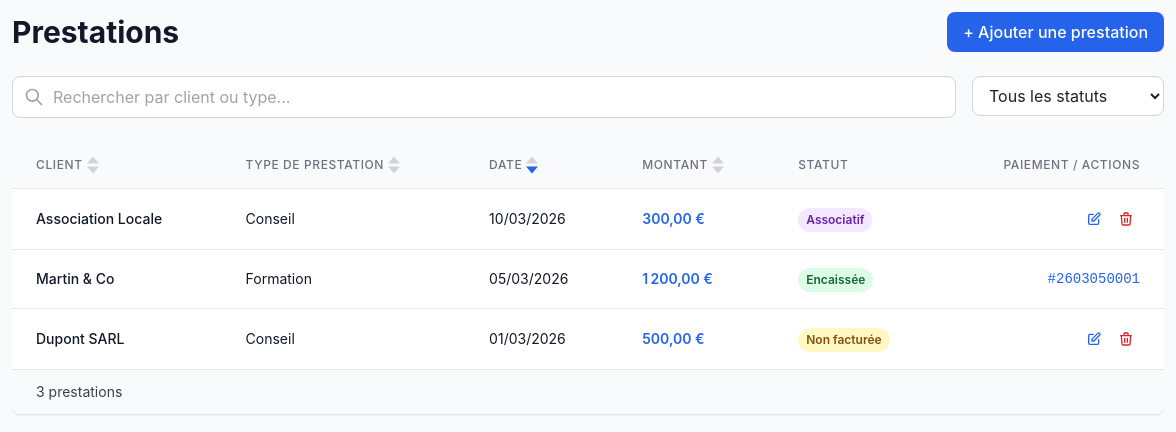
Scenario: Prestations page › filters prestations when searching by type
Type "Formation" into the field with placeholder "Rechercher par client ou type..." at (484, 97), box [12,76,956,118]
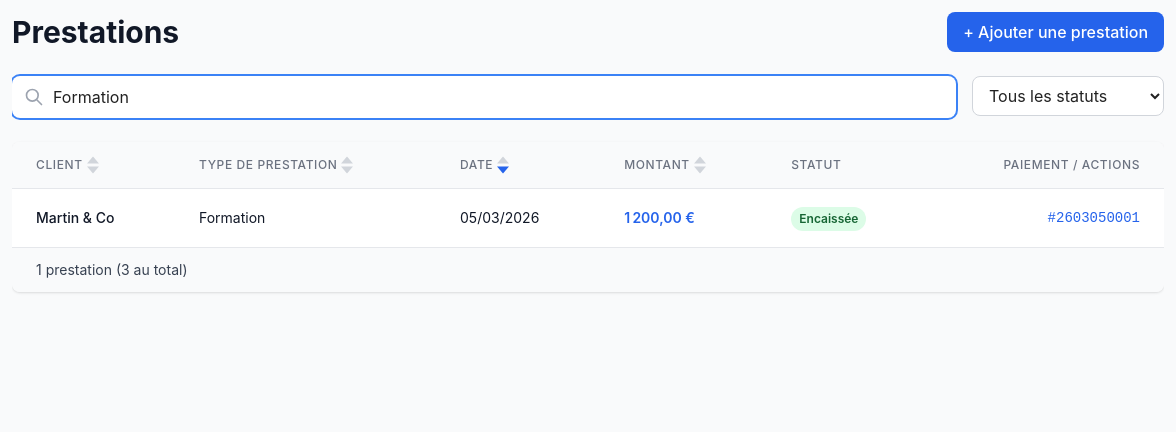
Expected: the text "Dupont SARL" is gone
